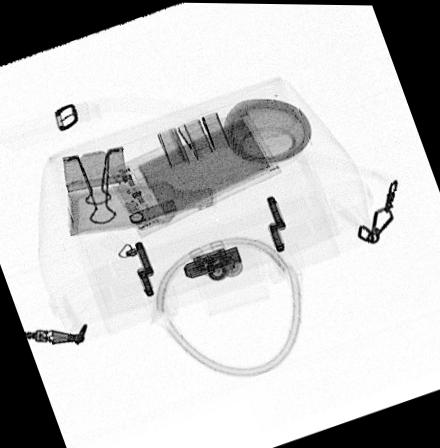Powerbank: (108, 108, 280, 240)
